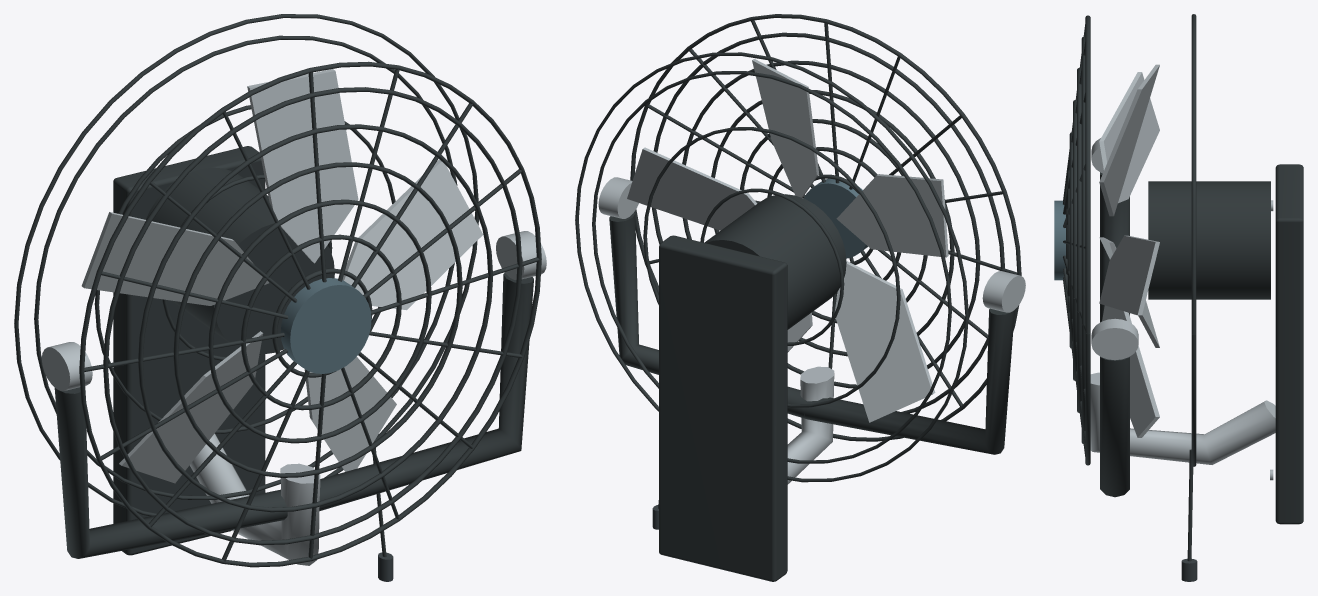
Rendered from garage-wall-fan.glb.
3 views of the same model, side by side, from view 1: azimuth 30°, elevation 25°; view 2: azimuth 150°, elevation 25°; view 3: azimuth 270°, elevation 25° (orthographic). The views are drawn at different scales.
Visible parts, largest first — view 1: garage-wall-fan authored assembly; view 2: garage-wall-fan authored assembly; view 3: garage-wall-fan authored assembly.
Part boxes in pixels (x1,y1,x2,y2): garage-wall-fan authored assembly: (14,14,546,581); garage-wall-fan authored assembly: (575,14,1025,581); garage-wall-fan authored assembly: (1054,14,1303,581).
Size of the model in its own units: 0.55 by 0.65 by 0.3.
